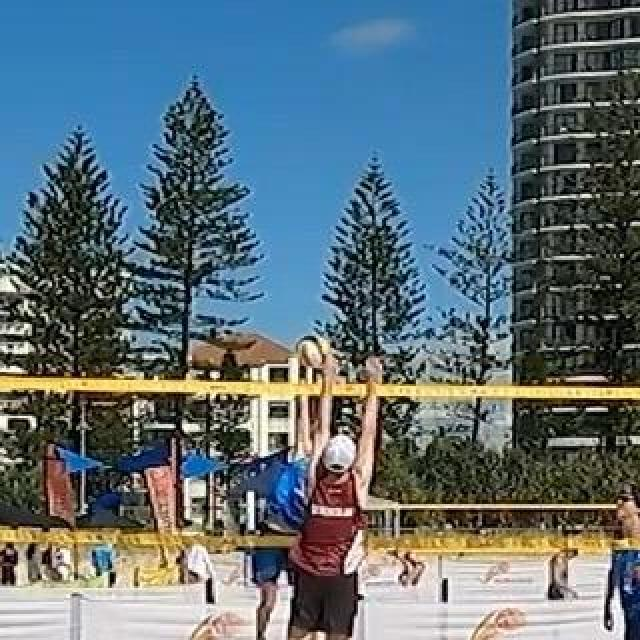volleyball: (293, 334, 331, 370)
